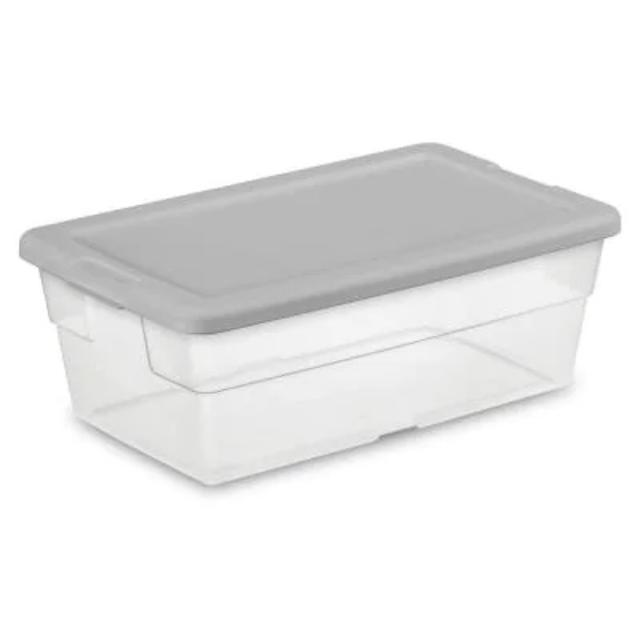plastic: (20, 144, 619, 484)
